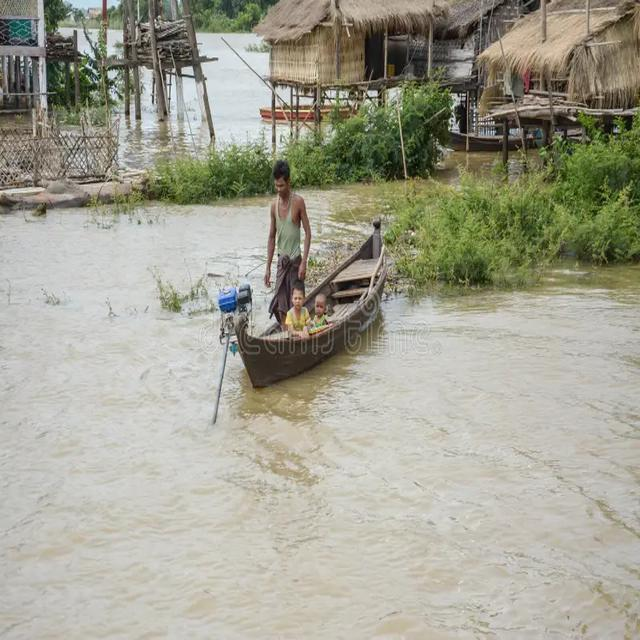Person-RiskLevel3: (254, 161, 341, 334)
